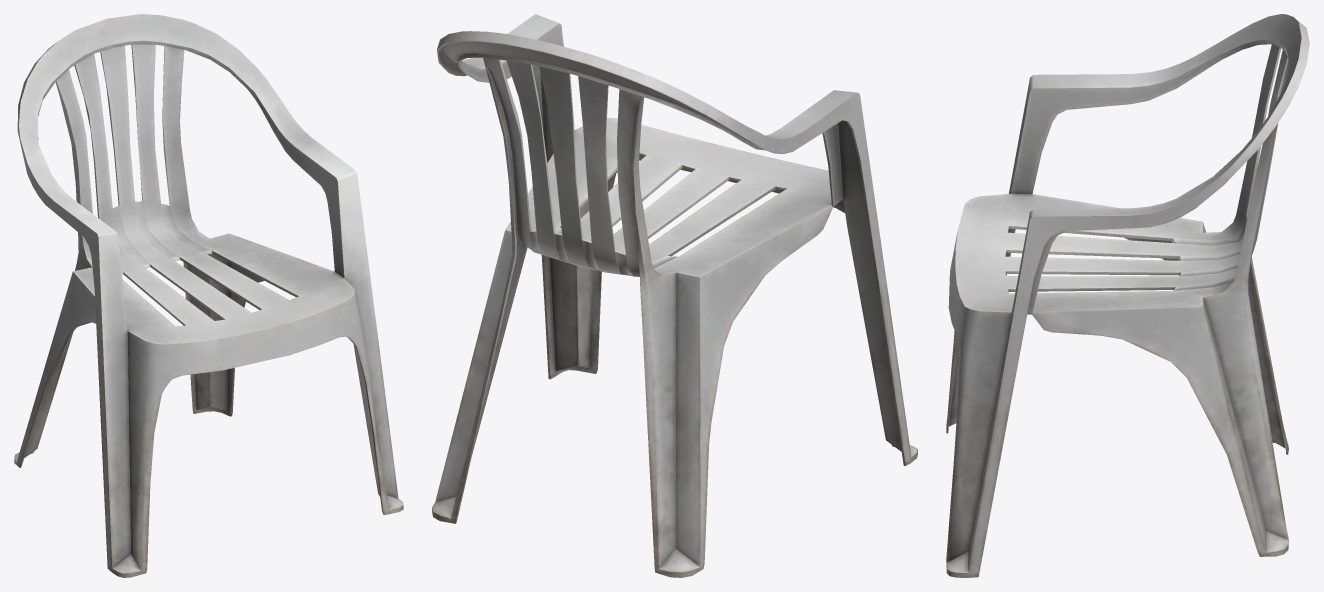
Rendered from chair.glb.
The picture shows the model from 3 angles, left to right: view 1: azimuth 30°, elevation 25°; view 2: azimuth 150°, elevation 25°; view 3: azimuth 270°, elevation 25°; orthographic projection. The views are drawn at different scales.
Visible parts, largest first — view 1: plastic_monobloc_chair_01; view 2: plastic_monobloc_chair_01; view 3: plastic_monobloc_chair_01.
Boxes of the visible parts, x1,y1,x2,y2 form: plastic_monobloc_chair_01: (14, 14, 403, 577); plastic_monobloc_chair_01: (432, 14, 917, 577); plastic_monobloc_chair_01: (946, 14, 1309, 577).
Size of the model in its own units: 0.6419 by 0.8798 by 0.6276.
1 material, 1 textured.
